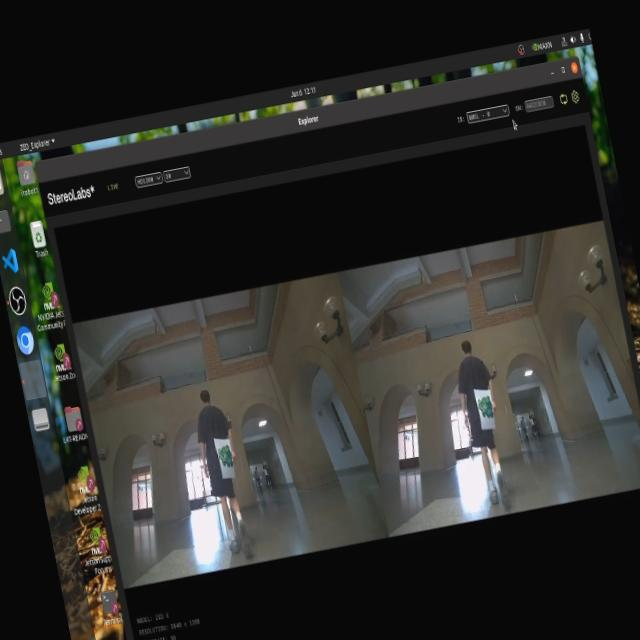green: (468, 392, 502, 428), (214, 438, 237, 472)
